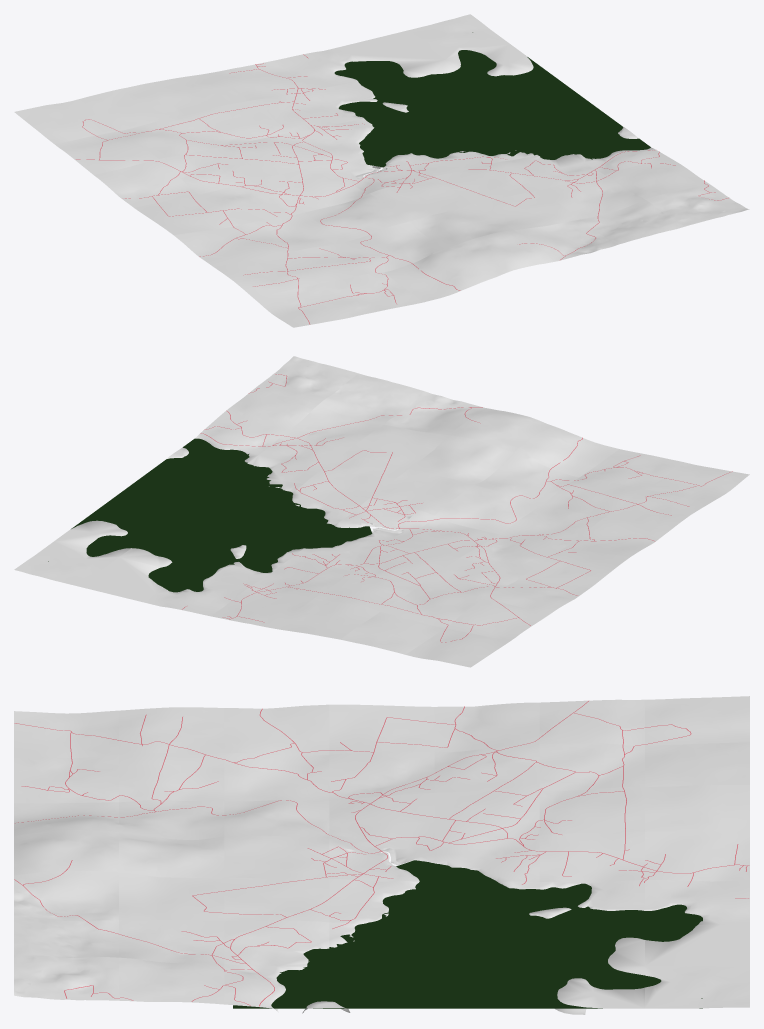
The model's file is Msh_Terrain_05.glb.
3 renders of one model, top to bottom at view 1: azimuth 30°, elevation 25°; view 2: azimuth 150°, elevation 25°; view 3: azimuth 270°, elevation 25°, orthographic. The views are drawn at different scales.
Parts seen in each view (by area): view 1: Msh_Water, Msh_Roads, Msh_Sec5_Bloque21, Msh_Sec5_Bloque10, Msh_Sec5_Bloque03, Msh_Sec5_Bloque18, Msh_Sec5_Bloque28, Msh_Sec5_Bloque08, Msh_Sec5_Bloque11, Msh_Sec5_Bloque20, Msh_Sec5_Bloque16, Msh_Sec5_Bloque19 (+34 smaller); view 2: Msh_Water, Msh_Roads, Msh_Sec5_Bloque41, Msh_Sec5_Bloque27, Msh_Sec5_Bloque19, Msh_Sec5_Bloque21, Msh_Sec5_Bloque46, Msh_Sec5_Bloque20, Msh_Sec5_Bloque47, Msh_Sec5_Bloque33, Msh_Sec5_Bloque40, Msh_Sec5_Bloque26 (+34 smaller); view 3: Msh_Water, Msh_Roads, Msh_Sec5_Bloque23, Msh_Sec5_Bloque22, Msh_Sec5_Bloque05, Msh_Sec5_Bloque35, Msh_Sec5_Bloque13, Msh_Sec5_Bloque04, Msh_Sec5_Bloque12, Msh_Sec5_Bloque15, Msh_Sec5_Bloque17, Msh_Sec5_Bloque06 (+34 smaller).
Boxes of the visible parts, bbox=[...] form: Msh_Water: bbox=[334, 32, 650, 167]; Msh_Roads: bbox=[76, 54, 728, 324]; Msh_Sec5_Bloque21: bbox=[384, 247, 488, 302]; Msh_Sec5_Bloque10: bbox=[159, 146, 263, 194]; Msh_Sec5_Bloque03: bbox=[94, 159, 198, 207]; Msh_Sec5_Bloque18: bbox=[264, 164, 368, 212]; Msh_Sec5_Bloque28: bbox=[449, 230, 553, 279]; Msh_Sec5_Bloque08: bbox=[79, 84, 183, 130]; Msh_Sec5_Bloque11: bbox=[199, 177, 303, 225]; Msh_Sec5_Bloque20: bbox=[344, 221, 448, 272]; Msh_Sec5_Bloque16: bbox=[184, 101, 288, 145]; Msh_Sec5_Bloque19: bbox=[304, 193, 408, 242]; Msh_Water: bbox=[48, 438, 372, 592]; Msh_Roads: bbox=[182, 374, 732, 642]; Msh_Sec5_Bloque41: bbox=[319, 373, 423, 424]; Msh_Sec5_Bloque27: bbox=[409, 435, 513, 484]; Msh_Sec5_Bloque19: bbox=[435, 485, 539, 534]; Msh_Sec5_Bloque21: bbox=[514, 426, 618, 477]; Msh_Sec5_Bloque46: bbox=[214, 389, 318, 438]; Msh_Sec5_Bloque20: bbox=[475, 452, 579, 505]; Msh_Sec5_Bloque47: bbox=[254, 356, 358, 404]; Msh_Sec5_Bloque33: bbox=[304, 453, 408, 498]; Msh_Sec5_Bloque40: bbox=[279, 404, 383, 453]; Msh_Sec5_Bloque26: bbox=[369, 469, 473, 515]; Msh_Water: bbox=[233, 860, 702, 1008]; Msh_Roads: bbox=[14, 701, 749, 1006]; Msh_Sec5_Bloque23: bbox=[539, 831, 644, 882]; Msh_Sec5_Bloque22: bbox=[645, 831, 749, 881]; Msh_Sec5_Bloque05: bbox=[224, 704, 329, 755]; Msh_Sec5_Bloque35: bbox=[14, 871, 118, 921]; Msh_Sec5_Bloque13: bbox=[119, 753, 224, 802]; Msh_Sec5_Bloque04: bbox=[329, 704, 434, 754]; Msh_Sec5_Bloque12: bbox=[224, 753, 329, 801]; Msh_Sec5_Bloque15: bbox=[645, 784, 749, 833]; Msh_Sec5_Bloque17: bbox=[434, 790, 539, 838]; Msh_Sec5_Bloque06: bbox=[119, 707, 224, 754].
Size of the model in its own units: 4084 by 170 by 4329.
